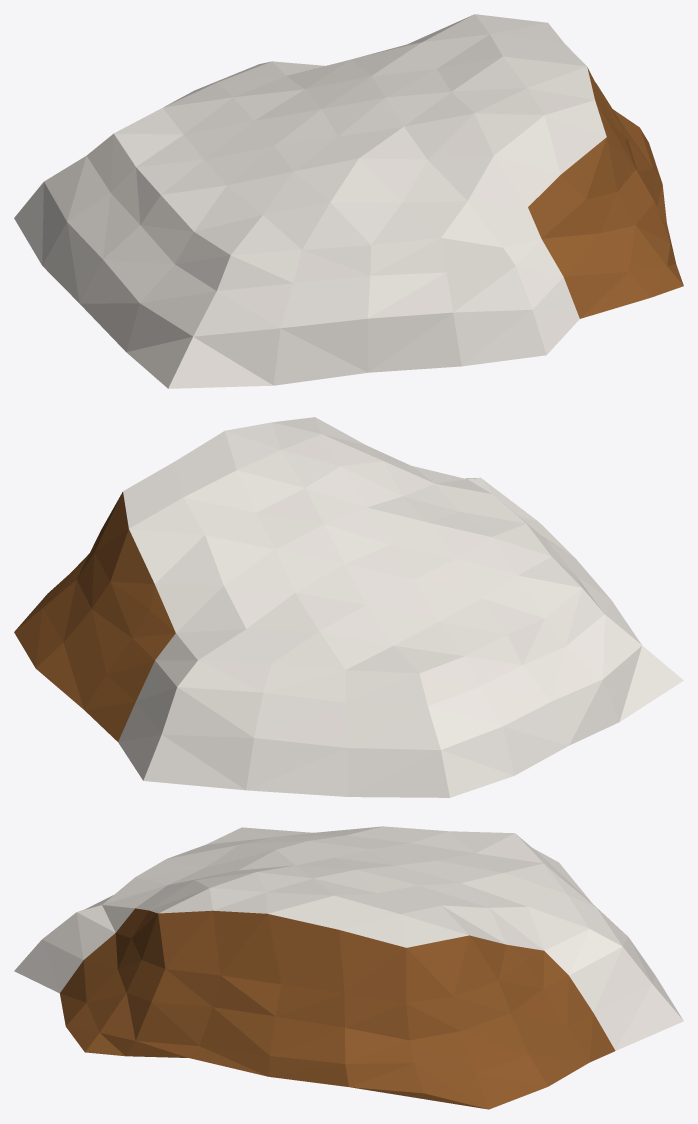
Rendered from snow_relief_1.fbx.
3 renders of one model, top to bottom at view 1: azimuth 30°, elevation 25°; view 2: azimuth 150°, elevation 25°; view 3: azimuth 270°, elevation 25°, orthographic. The views are drawn at different scales.
Parts seen in each view (by area): view 1: Icosphere.055; view 2: Icosphere.055; view 3: Icosphere.055.
Part boxes in pixels (x1,y1,x2,y2): Icosphere.055: [14, 14, 683, 388]; Icosphere.055: [14, 417, 683, 797]; Icosphere.055: [14, 826, 683, 1109].
Size of the model in its own units: 1556 by 504 by 1708.
